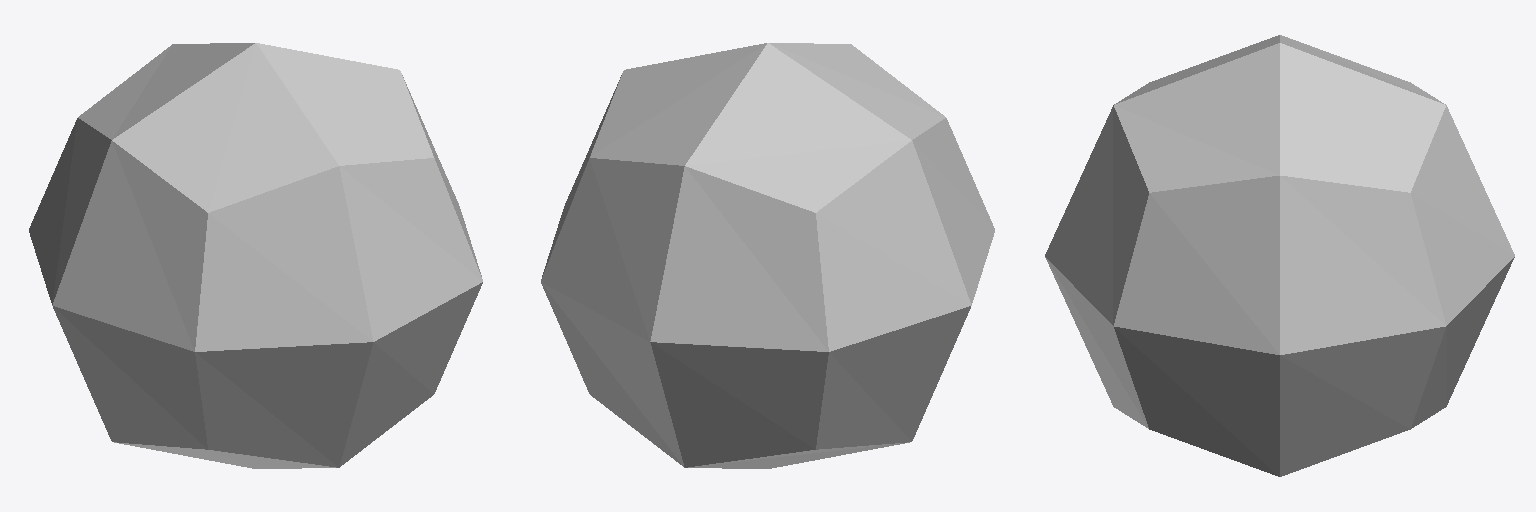
Rendered from CubeSmooth.obj.
3 renders of one model, left to right at view 1: azimuth 30°, elevation 25°; view 2: azimuth 150°, elevation 25°; view 3: azimuth 270°, elevation 25°, orthographic.
Size of the model in its own units: 3.6 by 3.6 by 3.6.